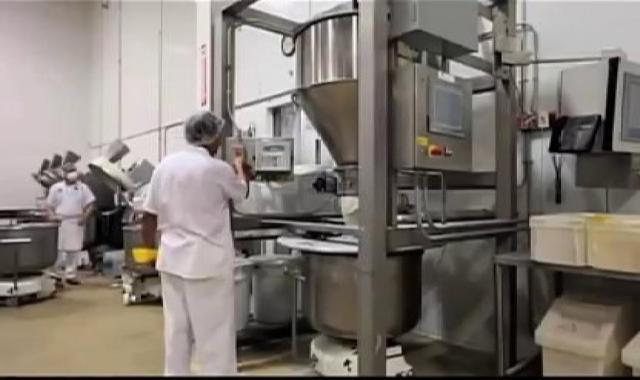gloves: (182, 108, 236, 152)
mask: (62, 170, 84, 190)
no_apron: (232, 140, 252, 172)
